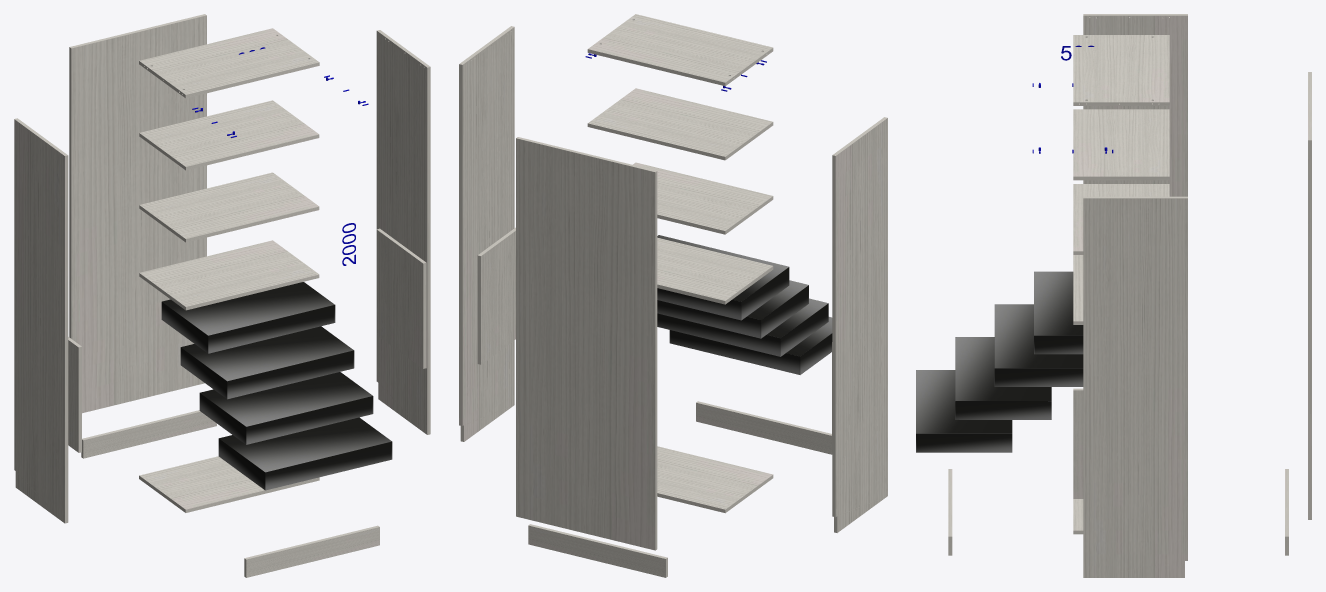
3 views of the same model, side by side, from view 1: azimuth 30°, elevation 25°; view 2: azimuth 150°, elevation 25°; view 3: azimuth 270°, elevation 25° (orthographic). The views are drawn at different scales.
Parts seen in each view (by area): view 1: {66482883-9123-4de6-B084-D812376C7611}_Node, {976B9EEA-FCFC-41b5-976B-7C9FADC69315}_Node, {2A14FA58-E551-4d0a-B2F1-7F674E8A53E7}_Node, {D449B835-A8E2-40f6-831F-CE58D3BCE634}_Node, {82230BB2-D1EF-465e-98B4-20A91E155837}_Node, {58C45A35-BDC1-4d2f-84F5-0098CBE594B1}_Node, {8297D6D9-75CA-4f57-B160-5F8057132FD0}_Node, {2571401B-8B6B-4fdf-810D-0A5FB7F82BA0}_Node, {CF102F1F-7F9D-425f-88CA-922FC75C11CA}_Node, {BEFC1864-42BD-4a3b-A30B-9B1FD6899BED}_Node, {6F0DACDD-77A9-45f8-AA66-83CDD80F3189}_Node, {E0A85FDF-4B0E-438a-A79F-3D034AD8E326}_Node (+4 smaller); view 2: {66482883-9123-4de6-B084-D812376C7611}_Node, {976B9EEA-FCFC-41b5-976B-7C9FADC69315}_Node, {2A14FA58-E551-4d0a-B2F1-7F674E8A53E7}_Node, {CF102F1F-7F9D-425f-88CA-922FC75C11CA}_Node, {6F0DACDD-77A9-45f8-AA66-83CDD80F3189}_Node, {BEFC1864-42BD-4a3b-A30B-9B1FD6899BED}_Node, {726943B9-56BD-418f-91B6-3FAE69B89910}_Node, {2571401B-8B6B-4fdf-810D-0A5FB7F82BA0}_Node, {E0A85FDF-4B0E-438a-A79F-3D034AD8E326}_Node, {58C45A35-BDC1-4d2f-84F5-0098CBE594B1}_Node, {82230BB2-D1EF-465e-98B4-20A91E155837}_Node, {D449B835-A8E2-40f6-831F-CE58D3BCE634}_Node (+3 smaller); view 3: {2A14FA58-E551-4d0a-B2F1-7F674E8A53E7}_Node, {6F0DACDD-77A9-45f8-AA66-83CDD80F3189}_Node, {CF102F1F-7F9D-425f-88CA-922FC75C11CA}_Node, {976B9EEA-FCFC-41b5-976B-7C9FADC69315}_Node, {58C45A35-BDC1-4d2f-84F5-0098CBE594B1}_Node, {D449B835-A8E2-40f6-831F-CE58D3BCE634}_Node, {82230BB2-D1EF-465e-98B4-20A91E155837}_Node, {8297D6D9-75CA-4f57-B160-5F8057132FD0}_Node, {BEFC1864-42BD-4a3b-A30B-9B1FD6899BED}_Node, {66482883-9123-4de6-B084-D812376C7611}_Node, {E0A85FDF-4B0E-438a-A79F-3D034AD8E326}_Node, {2571401B-8B6B-4fdf-810D-0A5FB7F82BA0}_Node.
Part boxes in pixels (bbox=[...]): {66482883-9123-4de6-B084-D812376C7611}_Node: bbox=[69, 14, 206, 413]; {976B9EEA-FCFC-41b5-976B-7C9FADC69315}_Node: bbox=[14, 118, 68, 523]; {2A14FA58-E551-4d0a-B2F1-7F674E8A53E7}_Node: bbox=[376, 30, 430, 434]; {D449B835-A8E2-40f6-831F-CE58D3BCE634}_Node: bbox=[218, 417, 392, 490]; {82230BB2-D1EF-465e-98B4-20A91E155837}_Node: bbox=[180, 326, 354, 399]; {58C45A35-BDC1-4d2f-84F5-0098CBE594B1}_Node: bbox=[199, 372, 373, 444]; {8297D6D9-75CA-4f57-B160-5F8057132FD0}_Node: bbox=[161, 282, 335, 353]; {2571401B-8B6B-4fdf-810D-0A5FB7F82BA0}_Node: bbox=[139, 240, 319, 310]; {CF102F1F-7F9D-425f-88CA-922FC75C11CA}_Node: bbox=[139, 28, 319, 98]; {BEFC1864-42BD-4a3b-A30B-9B1FD6899BED}_Node: bbox=[139, 172, 319, 242]; {6F0DACDD-77A9-45f8-AA66-83CDD80F3189}_Node: bbox=[139, 100, 319, 170]; {E0A85FDF-4B0E-438a-A79F-3D034AD8E326}_Node: bbox=[376, 228, 426, 368]; {66482883-9123-4de6-B084-D812376C7611}_Node: bbox=[516, 137, 657, 550]; {976B9EEA-FCFC-41b5-976B-7C9FADC69315}_Node: bbox=[832, 117, 887, 532]; {2A14FA58-E551-4d0a-B2F1-7F674E8A53E7}_Node: bbox=[459, 26, 514, 441]; {CF102F1F-7F9D-425f-88CA-922FC75C11CA}_Node: bbox=[587, 14, 773, 86]; {6F0DACDD-77A9-45f8-AA66-83CDD80F3189}_Node: bbox=[587, 88, 773, 160]; {BEFC1864-42BD-4a3b-A30B-9B1FD6899BED}_Node: bbox=[633, 162, 773, 234]; {726943B9-56BD-418f-91B6-3FAE69B89910}_Node: bbox=[657, 446, 773, 513]; {2571401B-8B6B-4fdf-810D-0A5FB7F82BA0}_Node: bbox=[657, 237, 773, 304]; {E0A85FDF-4B0E-438a-A79F-3D034AD8E326}_Node: bbox=[477, 227, 515, 364]; {58C45A35-BDC1-4d2f-84F5-0098CBE594B1}_Node: bbox=[657, 298, 828, 356]; {82230BB2-D1EF-465e-98B4-20A91E155837}_Node: bbox=[657, 280, 808, 338]; {D449B835-A8E2-40f6-831F-CE58D3BCE634}_Node: bbox=[669, 317, 832, 374]; {2A14FA58-E551-4d0a-B2F1-7F674E8A53E7}_Node: bbox=[1083, 196, 1187, 577]; {6F0DACDD-77A9-45f8-AA66-83CDD80F3189}_Node: bbox=[1073, 109, 1169, 180]; {CF102F1F-7F9D-425f-88CA-922FC75C11CA}_Node: bbox=[1073, 35, 1169, 105]; {976B9EEA-FCFC-41b5-976B-7C9FADC69315}_Node: bbox=[1083, 14, 1187, 196]; {58C45A35-BDC1-4d2f-84F5-0098CBE594B1}_Node: bbox=[955, 337, 1051, 419]; {D449B835-A8E2-40f6-831F-CE58D3BCE634}_Node: bbox=[916, 370, 1012, 452]; {82230BB2-D1EF-465e-98B4-20A91E155837}_Node: bbox=[994, 304, 1083, 386]; {8297D6D9-75CA-4f57-B160-5F8057132FD0}_Node: bbox=[1034, 271, 1083, 354]; {BEFC1864-42BD-4a3b-A30B-9B1FD6899BED}_Node: bbox=[1073, 184, 1169, 254]; {66482883-9123-4de6-B084-D812376C7611}_Node: bbox=[1308, 72, 1311, 519]; {E0A85FDF-4B0E-438a-A79F-3D034AD8E326}_Node: bbox=[1073, 388, 1083, 498]; {2571401B-8B6B-4fdf-810D-0A5FB7F82BA0}_Node: bbox=[1073, 255, 1083, 324].
Bounding box in the file's own units: 2.08 × 2.4 × 1.89.
Materials: 20 (16 with a texture image).
